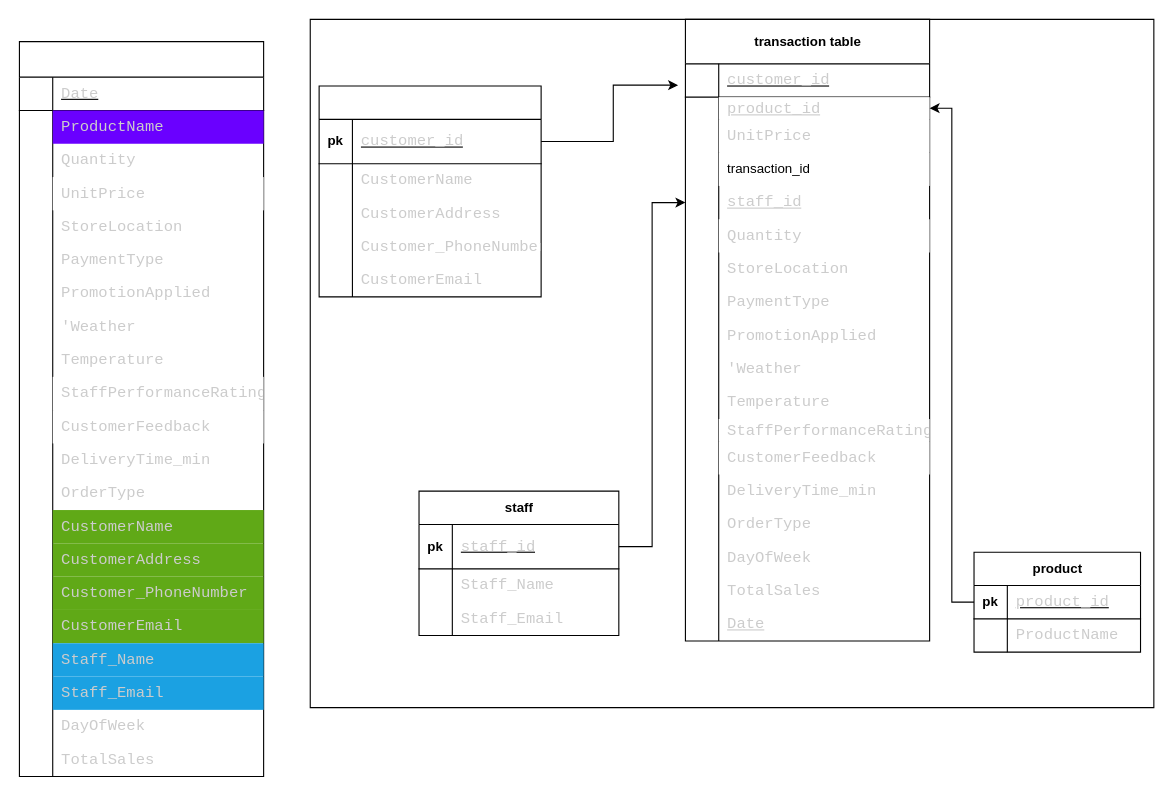
Image size: 1173x796. Some labels were removed from this diagram. The shapes that lost their labels are listed below. From the top down, each one's box as (x1, y1, x2, y2) in pixels, then its label:
(318, 85, 541, 297): customers
(18, 41, 264, 776): Zipco_Foods
